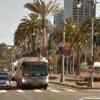Bus: (11, 53, 54, 92)
